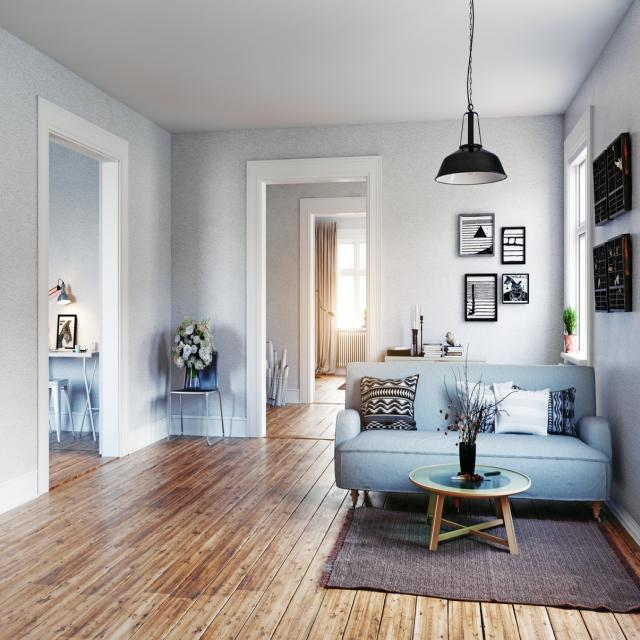modern chair: (407, 459, 530, 561), (164, 343, 232, 451)
modern sofa: (333, 353, 621, 527)
